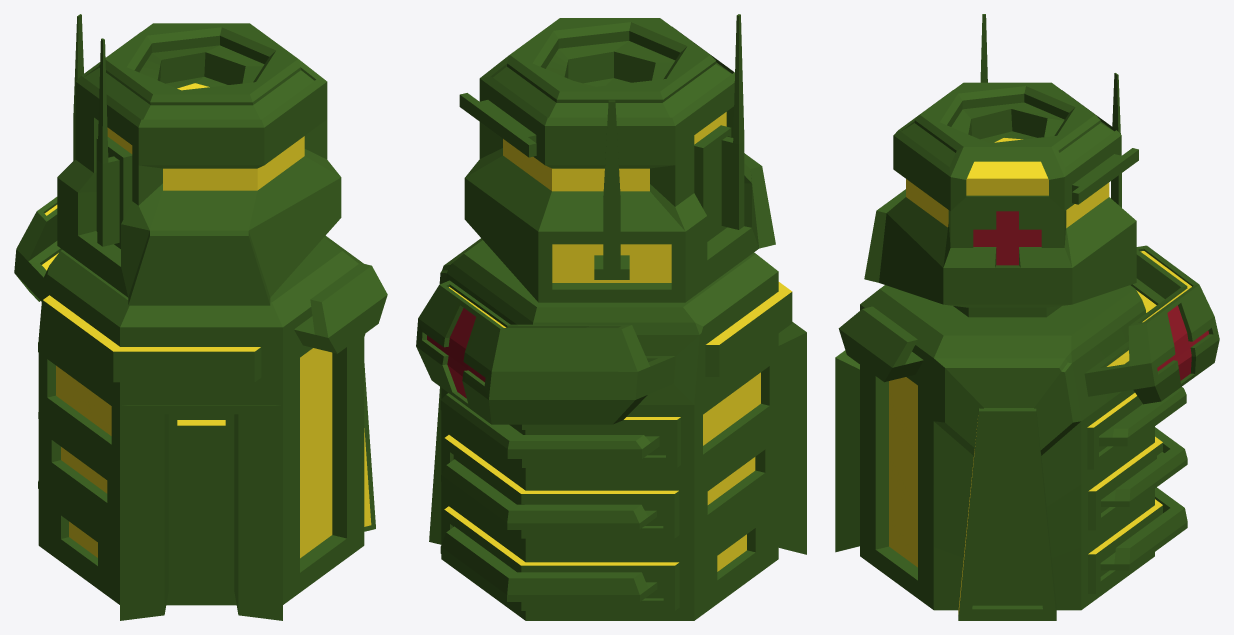
File: ModelofTower.fbx
The picture shows the model from 3 angles, left to right: view 1: azimuth 30°, elevation 25°; view 2: azimuth 150°, elevation 25°; view 3: azimuth 270°, elevation 25°; orthographic projection. The views are drawn at different scales.
Visible parts, largest first — view 1: Cylinder; view 2: Cylinder; view 3: Cylinder.
Boxes of the visible parts, <box> form: Cylinder: <box>14,14,387,620</box>; Cylinder: <box>416,14,806,620</box>; Cylinder: <box>835,14,1219,620</box>.
Size of the model in its own units: 201 by 370 by 261.
